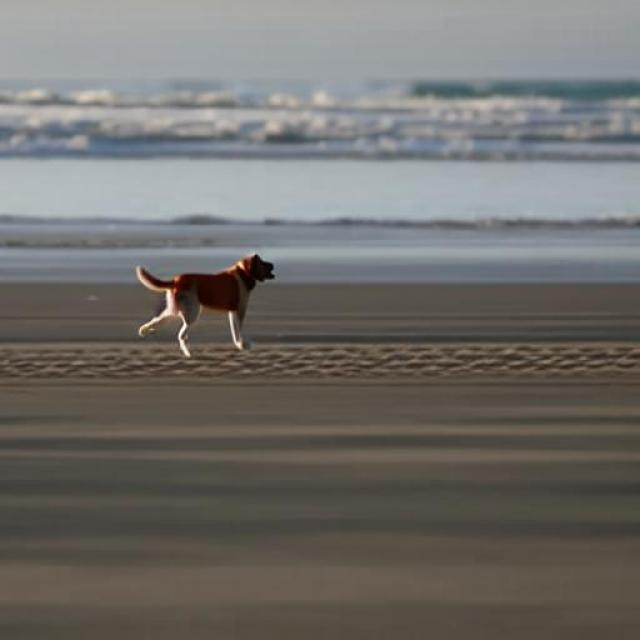Dog: (135, 252, 275, 358)
